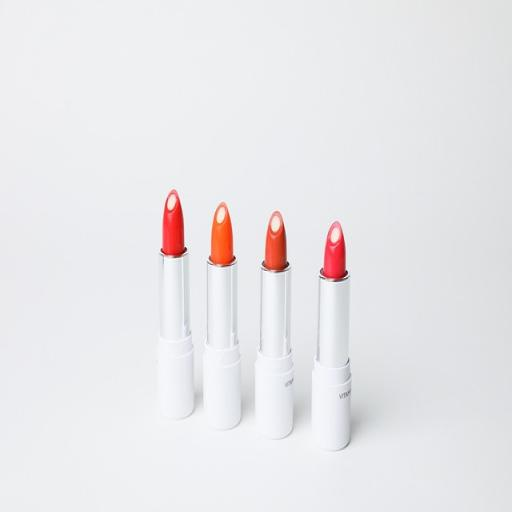lipstick: (312, 222, 351, 450), (157, 190, 194, 418), (256, 212, 293, 438), (204, 203, 240, 429)
